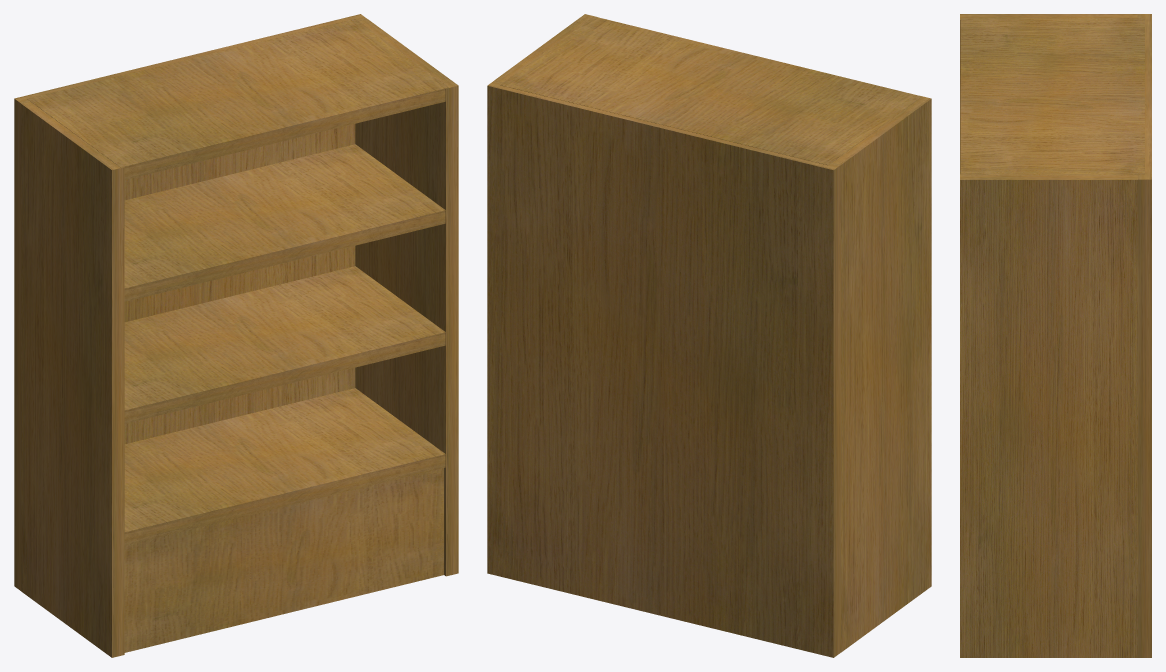
File: Hylla_kort.fbx
The picture shows the model from 3 angles, left to right: view 1: azimuth 30°, elevation 25°; view 2: azimuth 150°, elevation 25°; view 3: azimuth 270°, elevation 25°; orthographic projection. The views are drawn at different scales.
Parts seen in each view (by area): view 1: pCube3, pCube10, pCube4, pCube12, pCube13, pCube11, pCube2, pCube1; view 2: pCube1, pCube3, pCube10, pCube2; view 3: pCube2, pCube10, pCube1, pCube3.
Part boxes in pixels (bbox=[...]): pCube3: bbox=[21, 101, 124, 657]; pCube10: bbox=[27, 18, 448, 179]; pCube4: bbox=[124, 468, 443, 652]; pCube12: bbox=[124, 266, 445, 423]; pCube13: bbox=[124, 388, 445, 545]; pCube11: bbox=[124, 144, 445, 301]; pCube2: bbox=[355, 19, 458, 576]; pCube1: bbox=[14, 14, 367, 590]; pCube1: bbox=[487, 80, 840, 657]; pCube3: bbox=[832, 96, 931, 652]; pCube10: bbox=[500, 16, 921, 165]; pCube2: bbox=[495, 14, 596, 82]; pCube2: bbox=[960, 173, 1137, 657]; pCube10: bbox=[960, 18, 1144, 175]; pCube1: bbox=[1137, 14, 1151, 657]; pCube3: bbox=[960, 14, 1137, 173].
Size of the model in its own units: 0.8926 by 1.2 by 0.4366.
Materials: 1 (1 with a texture image).
